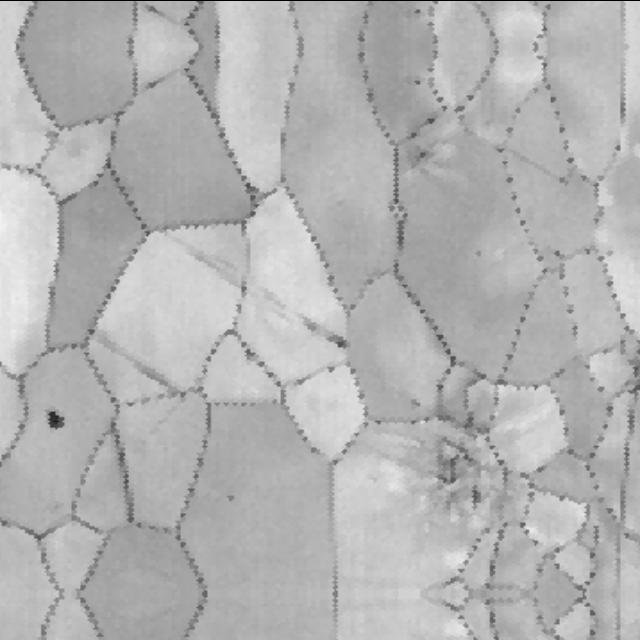good_void: (417, 411, 491, 517), (302, 316, 354, 352), (35, 393, 73, 440), (404, 144, 440, 177), (468, 234, 490, 264), (403, 388, 426, 413), (408, 71, 428, 99), (408, 0, 428, 23), (224, 493, 238, 506)
